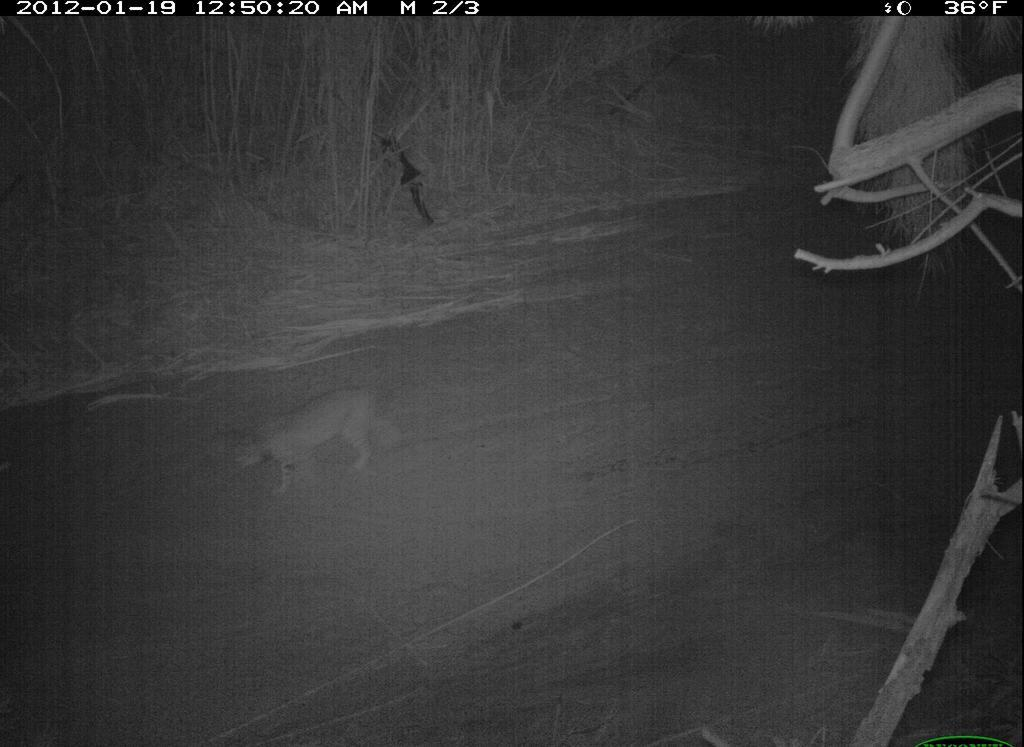bobcat: (218, 372, 395, 507)
